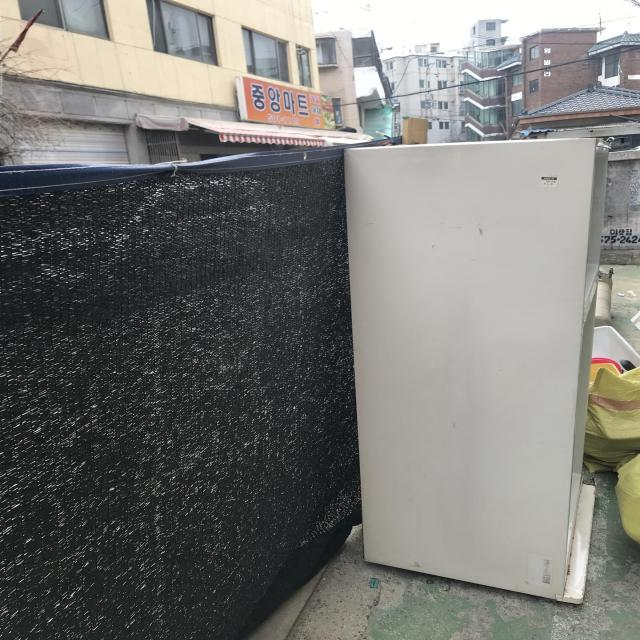refrigerator: (332, 135, 611, 609)
